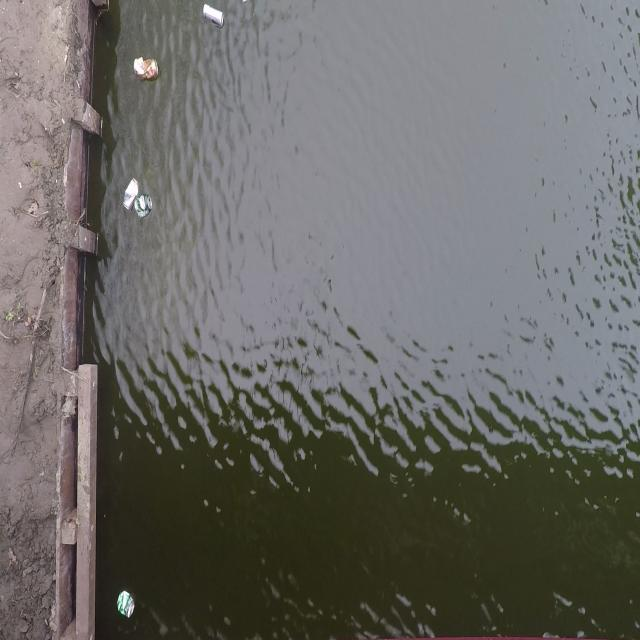Non plastique: (114, 587, 142, 624), (197, 0, 228, 30), (132, 53, 160, 84), (120, 172, 138, 214), (136, 197, 156, 220)
